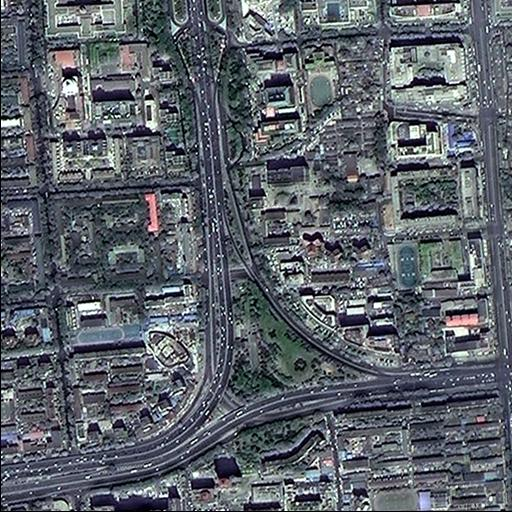school: (391, 232, 470, 295), (54, 292, 143, 343), (300, 37, 343, 131)
